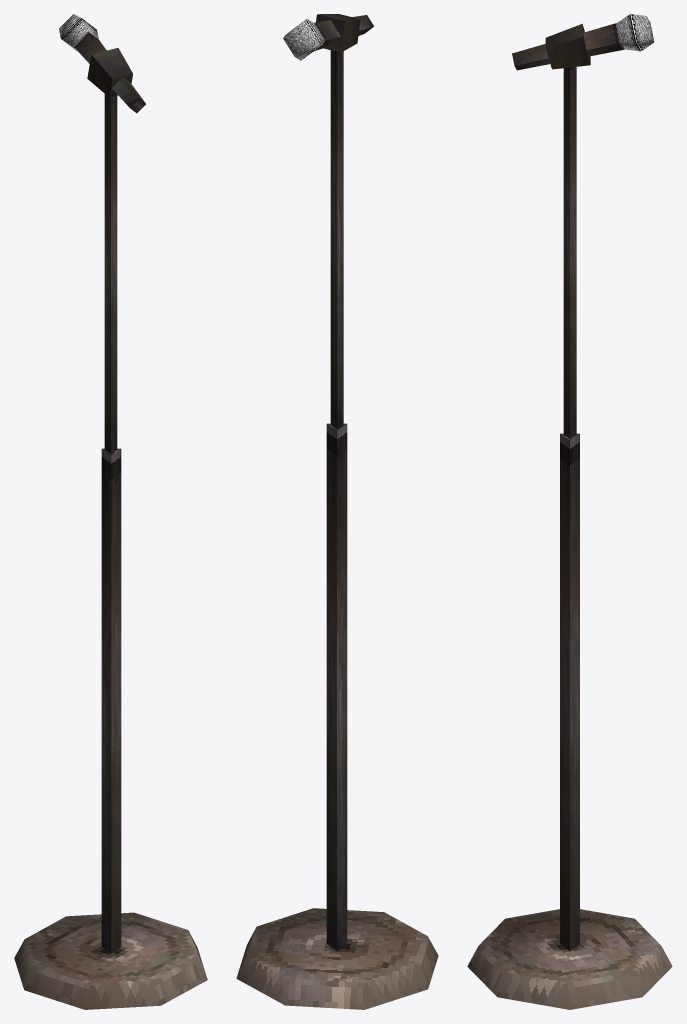
The model's file is micstand.fbx.
3 renders of one model, left to right at view 1: azimuth 30°, elevation 25°; view 2: azimuth 150°, elevation 25°; view 3: azimuth 270°, elevation 25°, orthographic. The views are drawn at different scales.
Parts seen in each view (by area): view 1: mesh_0; view 2: mesh_0; view 3: mesh_0.
Boxes of the visible parts, bbox=[...] form: mesh_0: bbox=[14, 14, 207, 1009]; mesh_0: bbox=[236, 14, 438, 1009]; mesh_0: bbox=[467, 14, 672, 1009].
Bounding box in the file's own units: 30 × 154 × 30.
1 material, 1 textured.
